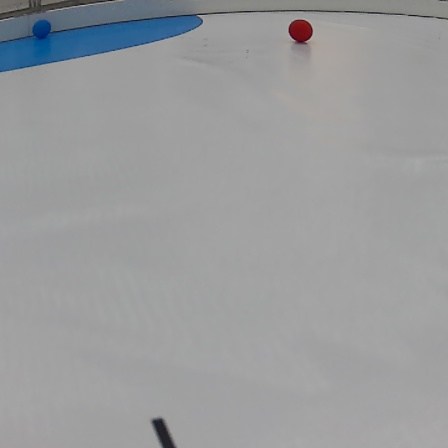blue: (30, 18, 51, 38)
blue_base: (1, 13, 205, 67)
red: (281, 20, 320, 42)
